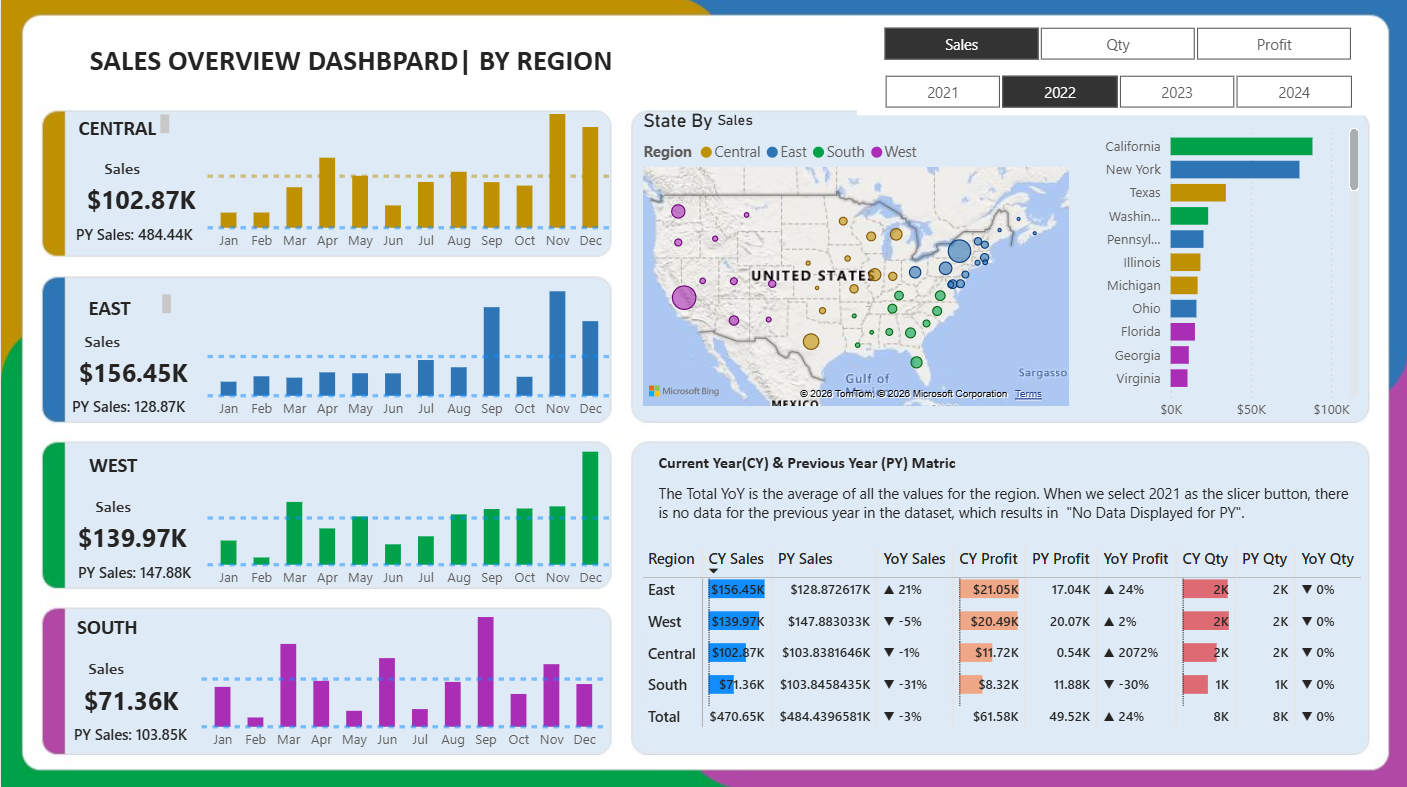

The page's visual inventory and layout, read from the dashboard file:
{"tool":"powerbi","page":{"name":"Sales ODBR","canvas":[1280,720],"ordinal":0},"visuals":[{"type":"textbox","box":[61.2,101.1,96.7,29.3],"z":0},{"type":"slicer","fields":{"Values":["Calendar Table.Year"]},"box":[778.1,63.2,473.7,42.8],"z":1000},{"type":"slicer","fields":{"Values":["Select Matric.Select Matric"]},"box":[777.6,20.4,474.4,42.6],"z":2000},{"type":"cardVisual","fields":{"Data":["Sales Data.Total Sales"]},"box":[61.2,142.8,134.8,67.4],"z":3000},{"type":"card","fields":{"Values":["Sales Data.Dynamic Title"]},"box":[61.2,142.8,98.4,25.7],"z":4000},{"type":"card","fields":{"Values":["Sales Data.PY KPI Sales"]},"box":[54.1,203.9,134.8,26.6],"z":5000},{"type":"clusteredColumnChart","fields":{"Y":["Sales Data.Total Sales"],"Category":["Calendar Table.Month"]},"box":[182.7,85.1,377.7,153.4],"z":6000},{"type":"textbox","box":[54.1,35.5,529.4,65.6],"z":7000},{"type":"textbox","box":[44.3,264.2,115.3,29.3],"z":8000},{"type":"cardVisual","fields":{"Data":["Sales Data.Total Sales"]},"box":[54.1,299.7,134.8,67.4],"z":9000},{"type":"card","fields":{"Values":["Sales Data.Dynamic Title"]},"box":[42.6,299.7,98.4,25.7],"z":10000},{"type":"card","fields":{"Values":["Sales Data.PY KPI Sales"]},"box":[42.6,360,146.3,26.6],"z":11000},{"type":"clusteredColumnChart","fields":{"Y":["Sales Data.Total Sales"],"Category":["Calendar Table.Month"]},"box":[182.7,238.5,377.7,153.4],"z":12000},{"type":"textbox","box":[48.1,421.3,115.3,29.3],"z":13000},{"type":"cardVisual","fields":{"Data":["Sales Data.Total Sales"]},"box":[52.3,450.4,134.8,67.4],"z":14000},{"type":"card","fields":{"Values":["Sales Data.Dynamic Title"]},"box":[52.3,450.4,98.4,25.7],"z":15000},{"type":"card","fields":{"Values":["Sales Data.PY KPI Sales"]},"box":[47.9,510.7,146.3,26.6],"z":16000},{"type":"clusteredColumnChart","fields":{"Y":["Sales Data.Total Sales"],"Category":["Calendar Table.Month"]},"box":[182.7,391.9,377.7,153.4],"z":17000},{"type":"textbox","box":[54.1,407.9,96.7,42.6],"z":18000},{"type":"cardVisual","fields":{"Data":["Sales Data.Total Sales"]},"box":[58.4,598.2,135.2,67.1],"z":19000},{"type":"card","fields":{"Values":["Sales Data.Dynamic Title"]},"box":[46.8,597.6,98.4,25.7],"z":20000},{"type":"card","fields":{"Values":["Sales Data.PY KPI Sales"]},"box":[44.7,658.5,145.9,27.2],"z":21000},{"type":"clusteredColumnChart","fields":{"Y":["Sales Data.Total Sales"],"Category":["Calendar Table.Month"]},"box":[177.1,539.1,377.7,153.4],"z":22000},{"type":"textbox","box":[48.5,555,96.7,42.6],"z":23000},{"type":"map","title":"State By","fields":{"Size":["Sales Data.Total Sales"],"Category":["Sales Data.State/Province"],"Series":["Sales Data.Region"]},"box":[579,101.1,397.2,275.8],"z":24000},{"type":"card","fields":{"Values":["Sales Data.DY_map"]},"box":[583.4,69.2,167.6,86.9],"z":25000},{"type":"barChart","fields":{"Y":["Sales Data.Total Sales"],"Category":["Sales Data.State/Province"],"Series":["Sales Data.Region"]},"box":[986.9,105.5,251.8,286.4],"z":26000},{"type":"pivotTable","fields":{"Rows":["Sales Data.Region"],"Values":["Sales Data.CY Sales","Sales Data.PY Sales","Sales Data.YoY Sales","Sales Data.CY Profit","Sales Data.PY Profit","Sales Data.YoY Profit","Sales Data.CY Qty","Sales Data.PY Qty","Sales Data.YoY Qty"]},"box":[578.1,494.8,673.9,191.5],"z":27000},{"type":"textbox","box":[592.7,408.2,434.5,28.2],"z":30000},{"type":"textbox","box":[592.7,436.4,646.4,48.2],"z":30001}]}

Visuals, with their boxes in screenshot pixels (x1, y1, x2, y2), scaled from the page's 1280x720 canvas onto the 1407x787 screenshot:
textbox: {"x1": 67, "y1": 111, "x2": 174, "y2": 143}
slicer - Calendar Table.Year: {"x1": 855, "y1": 69, "x2": 1376, "y2": 116}
slicer - Select Matric.Select Matric: {"x1": 855, "y1": 22, "x2": 1376, "y2": 69}
cardVisual - Sales Data.Total Sales: {"x1": 67, "y1": 156, "x2": 215, "y2": 230}
card - Sales Data.Dynamic Title: {"x1": 67, "y1": 156, "x2": 175, "y2": 184}
card - Sales Data.PY KPI Sales: {"x1": 59, "y1": 223, "x2": 208, "y2": 252}
clusteredColumnChart - Sales Data.Total Sales x Calendar Table.Month: {"x1": 201, "y1": 93, "x2": 616, "y2": 261}
textbox: {"x1": 59, "y1": 39, "x2": 641, "y2": 111}
textbox: {"x1": 49, "y1": 289, "x2": 175, "y2": 321}
cardVisual - Sales Data.Total Sales: {"x1": 59, "y1": 328, "x2": 208, "y2": 401}
card - Sales Data.Dynamic Title: {"x1": 47, "y1": 328, "x2": 155, "y2": 356}
card - Sales Data.PY KPI Sales: {"x1": 47, "y1": 393, "x2": 208, "y2": 423}
clusteredColumnChart - Sales Data.Total Sales x Calendar Table.Month: {"x1": 201, "y1": 261, "x2": 616, "y2": 428}
textbox: {"x1": 53, "y1": 461, "x2": 180, "y2": 493}
cardVisual - Sales Data.Total Sales: {"x1": 57, "y1": 492, "x2": 206, "y2": 566}
card - Sales Data.Dynamic Title: {"x1": 57, "y1": 492, "x2": 166, "y2": 520}
card - Sales Data.PY KPI Sales: {"x1": 53, "y1": 558, "x2": 213, "y2": 587}
clusteredColumnChart - Sales Data.Total Sales x Calendar Table.Month: {"x1": 201, "y1": 428, "x2": 616, "y2": 596}
textbox: {"x1": 59, "y1": 446, "x2": 166, "y2": 492}
cardVisual - Sales Data.Total Sales: {"x1": 64, "y1": 654, "x2": 213, "y2": 727}
card - Sales Data.Dynamic Title: {"x1": 51, "y1": 653, "x2": 160, "y2": 681}
card - Sales Data.PY KPI Sales: {"x1": 49, "y1": 720, "x2": 210, "y2": 750}
clusteredColumnChart - Sales Data.Total Sales x Calendar Table.Month: {"x1": 195, "y1": 589, "x2": 610, "y2": 757}
textbox: {"x1": 53, "y1": 607, "x2": 160, "y2": 653}
"State By" map: {"x1": 636, "y1": 111, "x2": 1073, "y2": 412}
card - Sales Data.DY_map: {"x1": 641, "y1": 76, "x2": 826, "y2": 171}
barChart - Sales Data.Total Sales x Sales Data.State/Province: {"x1": 1085, "y1": 115, "x2": 1362, "y2": 428}
pivotTable - Sales Data.Region x Sales Data.CY Sales: {"x1": 635, "y1": 541, "x2": 1376, "y2": 750}
textbox: {"x1": 652, "y1": 446, "x2": 1129, "y2": 477}
textbox: {"x1": 652, "y1": 477, "x2": 1362, "y2": 530}
